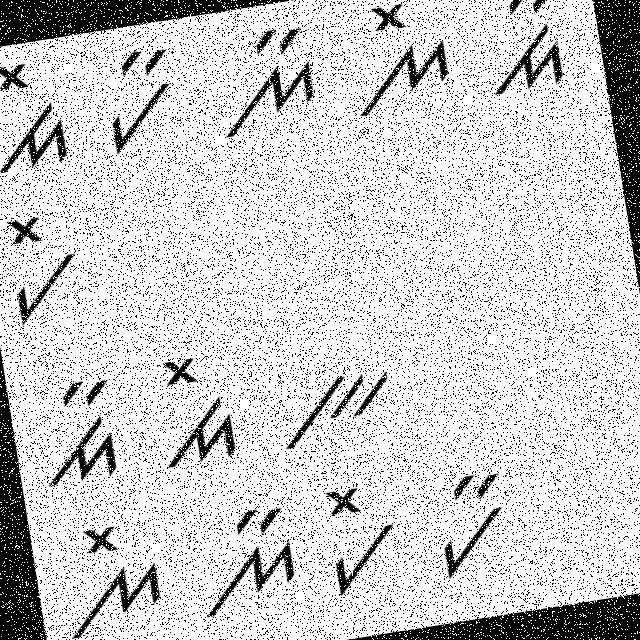dan: (33, 369, 131, 495), (475, 0, 582, 104)
do: (144, 348, 243, 474), (0, 49, 86, 182)
nan: (182, 498, 308, 624), (203, 17, 329, 142)
no: (47, 513, 173, 639), (342, 0, 466, 124)
pan: (419, 463, 524, 587), (96, 43, 193, 158)
po: (309, 476, 408, 602), (0, 205, 93, 330)
